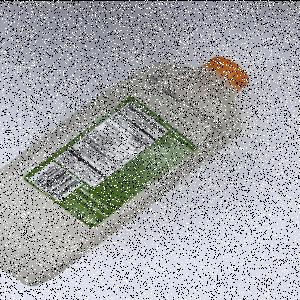Plastic-bottle: (2, 55, 252, 287)
